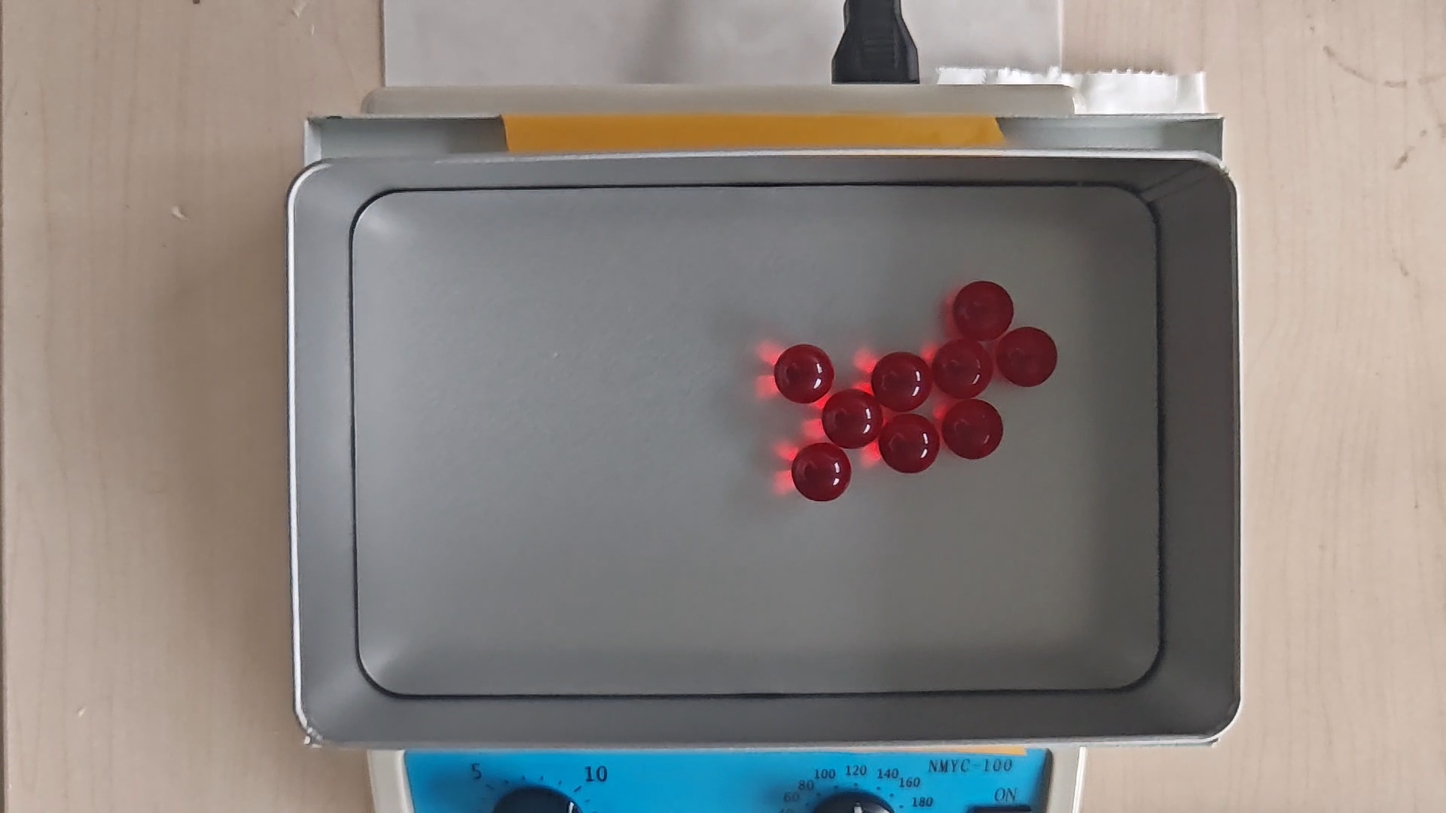ball: (941, 396, 1004, 462), (772, 342, 834, 404), (953, 280, 1014, 343), (932, 338, 992, 402), (792, 442, 852, 503), (871, 351, 932, 411), (880, 413, 939, 475), (999, 327, 1058, 387), (825, 390, 882, 448)
container: (349, 180, 1164, 693)
